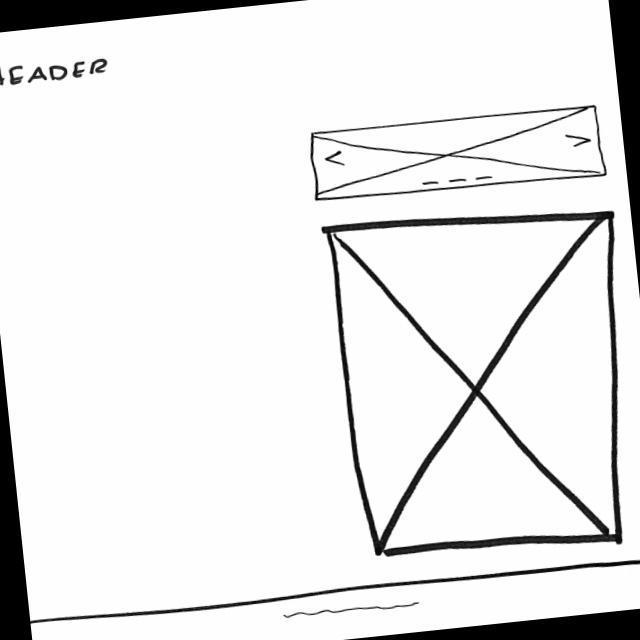container: (1, 52, 113, 91)
image: (319, 193, 640, 571), (308, 101, 612, 209), (282, 597, 425, 625)
